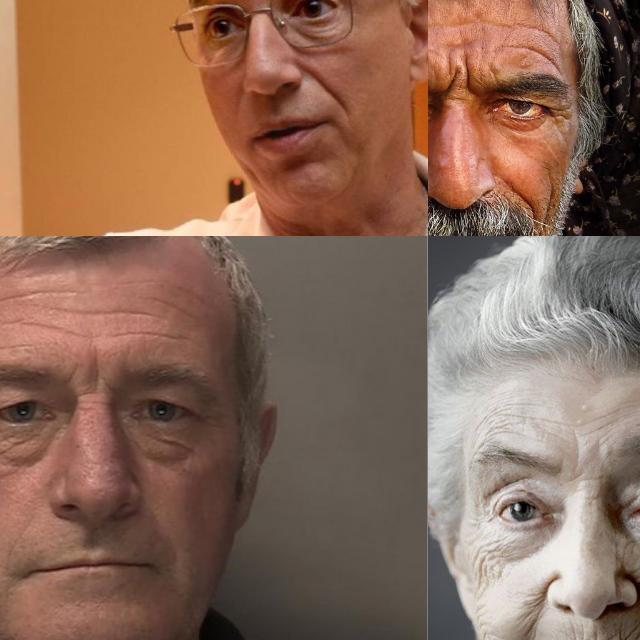crows_feet: (467, 494, 493, 532), (548, 102, 570, 126)
forehead: (482, 408, 552, 439), (122, 322, 180, 346), (514, 39, 558, 70), (96, 302, 152, 324), (509, 18, 557, 42), (0, 282, 48, 306), (28, 317, 78, 339), (56, 297, 92, 325), (0, 338, 24, 356)
frown_line: (80, 364, 114, 400), (442, 62, 474, 96), (565, 465, 605, 487), (568, 436, 588, 472)
gummy_smile: (300, 63, 352, 107), (523, 582, 549, 640), (503, 181, 539, 217)
masseter: (466, 549, 502, 599), (542, 184, 560, 224)
smoker_lines: (552, 621, 640, 640)
